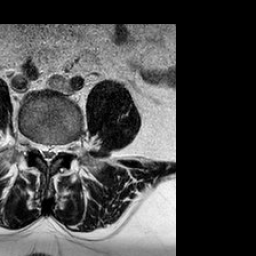CCS_normal: (44, 131, 52, 172)
LFS_normal: (60, 131, 68, 160)
LLS_normal: (52, 136, 60, 162)
RFS_normal: (29, 130, 37, 158)
RLS_normal: (37, 134, 44, 162)
